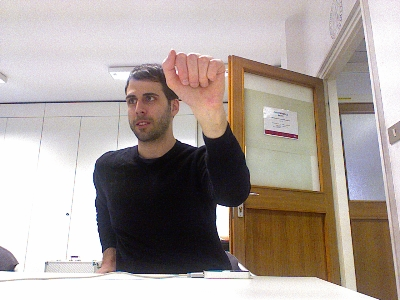石头: (160, 47, 226, 110)
